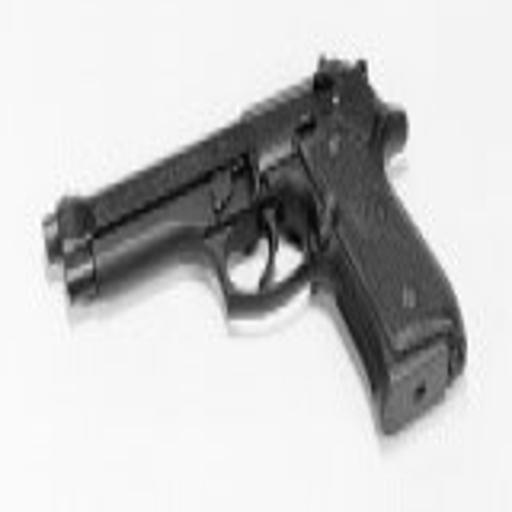Handgun: (40, 45, 469, 447)
